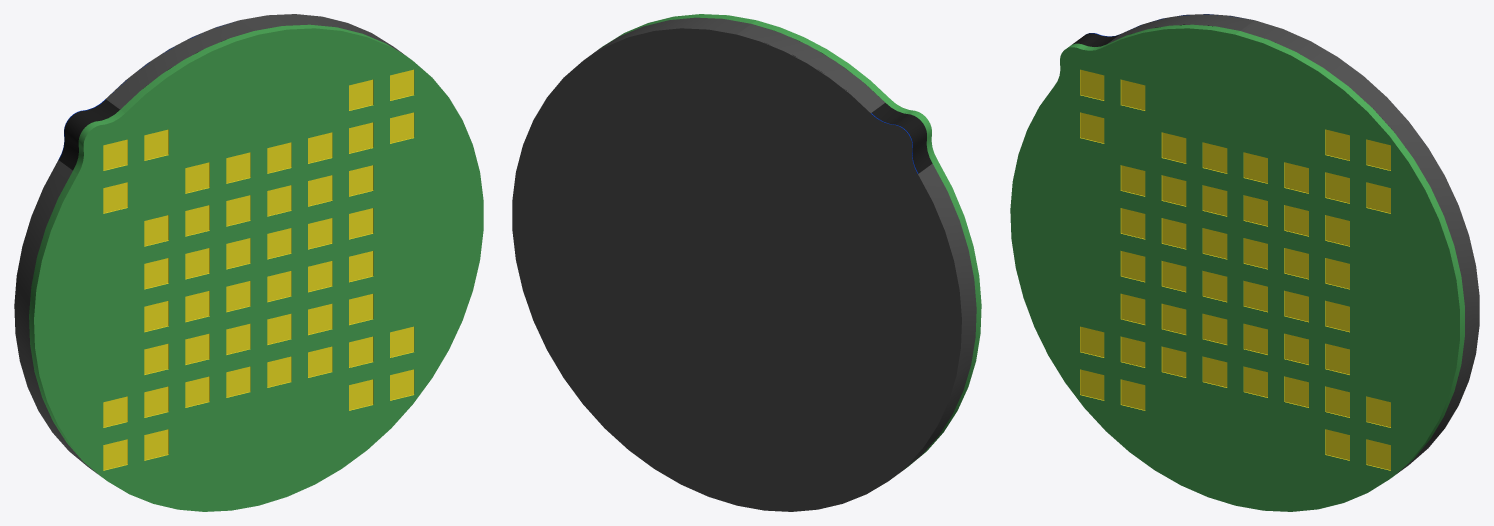
File: sfe-fpc2530.glb
3 views of the same model, side by side, from view 1: azimuth 30°, elevation 25°; view 2: azimuth 150°, elevation 25°; view 3: azimuth 330°, elevation 25° (orthographic).
Parts seen in each view (by area): view 1: 0.08333333333333333_0.4166666666666667_0.08333333333333333_0, 1_0.8333333333333334_0_0, 0.08333333333333333_0.08333333333333333_0.08333333333333333_, 0_0_0_0; view 2: 0.08333333333333333_0.08333333333333333_0.08333333333333333_, 0.08333333333333333_0.4166666666666667_0.08333333333333333_0, 0_0_0_0; view 3: 0.08333333333333333_0.4166666666666667_0.08333333333333333_0, 1_0.8333333333333334_0_0, 0.08333333333333333_0.08333333333333333_0.08333333333333333_.
Boxes of the visible parts, x1=… form: 0.08333333333333333_0.4166666666666667_0.08333333333333333_0: x1=29, y1=24, x2=483, y2=511; 1_0.8333333333333334_0_0: x1=103, y1=69, x2=414, y2=470; 0.08333333333333333_0.08333333333333333_0.08333333333333333_: x1=14, y1=14, x2=405, y2=475; 0_0_0_0: x1=59, y1=40, x2=224, y2=170; 0.08333333333333333_0.08333333333333333_0.08333333333333333_: x1=512, y1=17, x2=976, y2=511; 0.08333333333333333_0.4166666666666667_0.08333333333333333_0: x1=599, y1=14, x2=981, y2=469; 0_0_0_0: x1=766, y1=43, x2=932, y2=173; 0.08333333333333333_0.4166666666666667_0.08333333333333333_0: x1=1010, y1=24, x2=1464, y2=511; 1_0.8333333333333334_0_0: x1=1080, y1=69, x2=1390, y2=470; 0.08333333333333333_0.08333333333333333_0.08333333333333333_: x1=1107, y1=14, x2=1479, y2=474.
Size of the model in its own units: 1.1 by 1.1 by 0.083.
